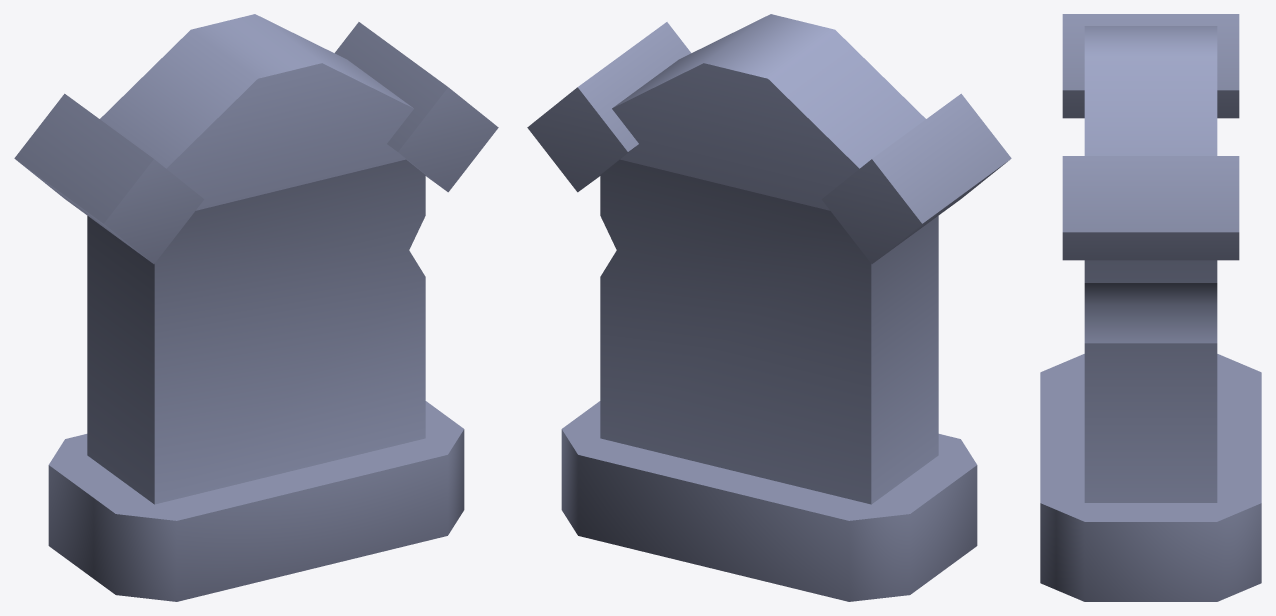
Rendered from K_gravestone-decorative.glb.
3 renders of one model, left to right at view 1: azimuth 30°, elevation 25°; view 2: azimuth 150°, elevation 25°; view 3: azimuth 270°, elevation 25°, orthographic.
Visible parts, largest first — view 1: gravestone-decorative; view 2: gravestone-decorative; view 3: gravestone-decorative.
Part boxes in pixels (box(x1,y1,x2,y2)): gravestone-decorative: box(14, 14, 498, 601); gravestone-decorative: box(527, 14, 1011, 601); gravestone-decorative: box(1040, 14, 1261, 601).
Bounding box in the file's own units: 0.5101 × 0.5942 × 0.25.
